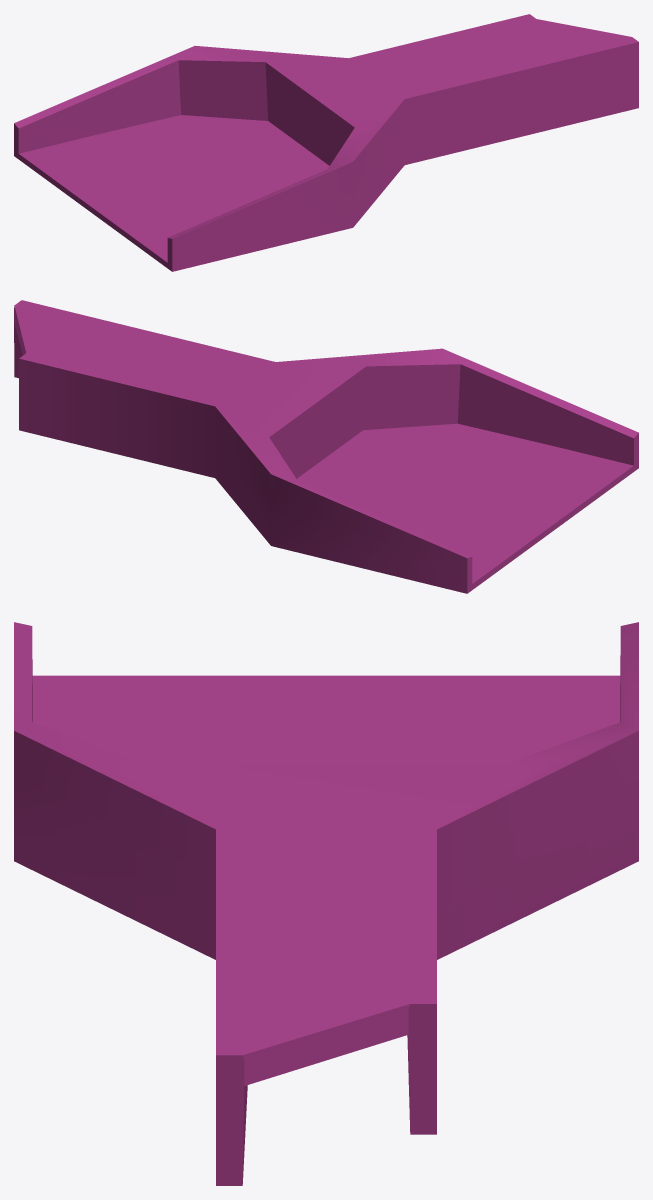
The model's file is Spade Broken End.fbx.
The picture shows the model from 3 angles, top to bottom: view 1: azimuth 30°, elevation 25°; view 2: azimuth 150°, elevation 25°; view 3: azimuth 270°, elevation 25°; orthographic projection. The views are drawn at different scales.
Visible parts, largest first — view 1: pCube2; view 2: pCube2; view 3: pCube2.
Part boxes in pixels (x1,y1,x2,y2): pCube2: (14,14,638,271); pCube2: (14,300,638,593); pCube2: (14,622,638,1185).
Size of the model in its own units: 2.86 by 0.3494 by 1.52.
